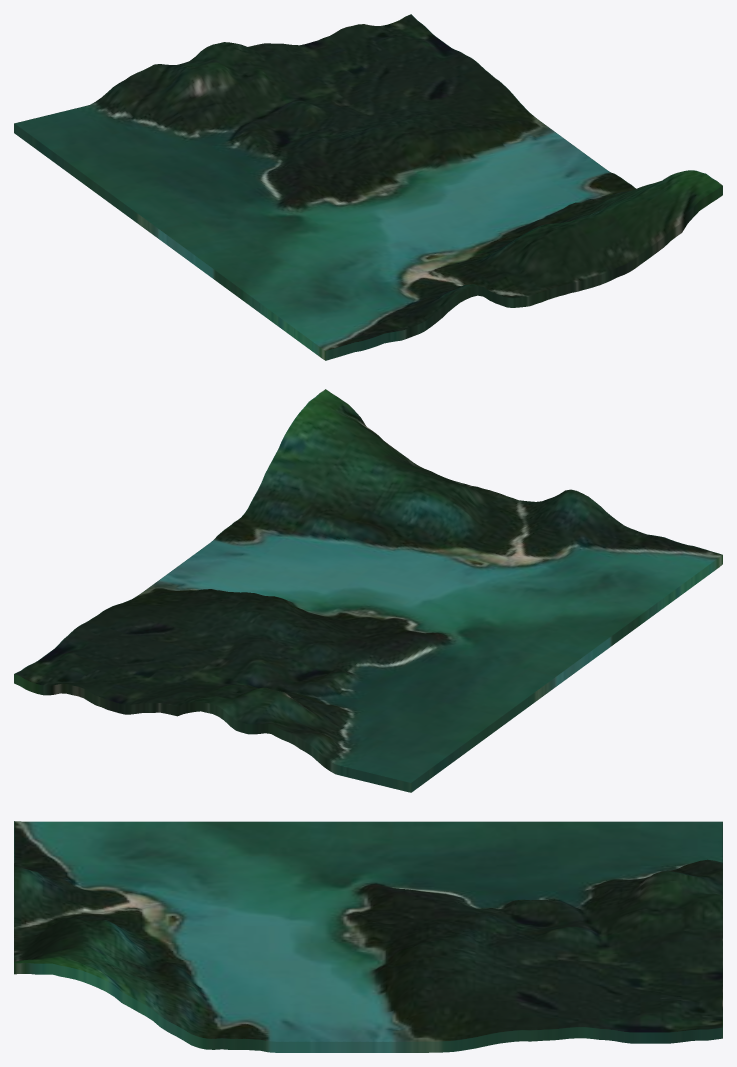
3 views of the same model, one above another, from view 1: azimuth 30°, elevation 25°; view 2: azimuth 150°, elevation 25°; view 3: azimuth 270°, elevation 25° (orthographic). The views are drawn at different scales.
Parts seen in each view (by area): view 1: tile; view 2: tile; view 3: tile.
Boxes of the visible parts, x1,y1,x2,y2 form: tile: (14, 14, 722, 360); tile: (14, 389, 722, 792); tile: (14, 821, 722, 1052).
Size of the model in its own units: 4050 by 769 by 5505.
1 material, 1 textured.
